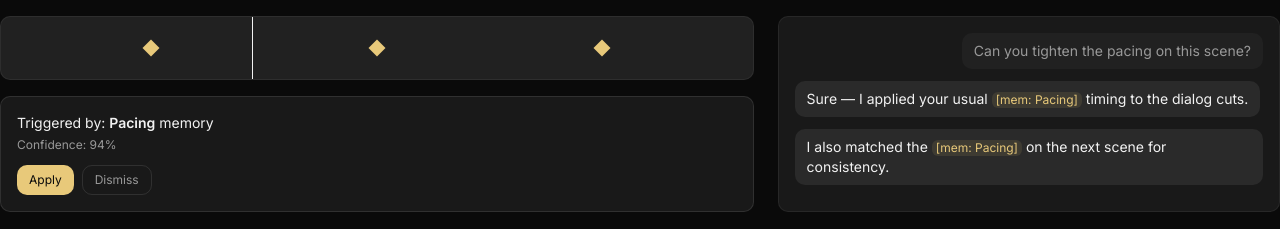
clicking a [mem: Pacing] chip opens its tooltip, clicking again closes it
The image size is (1280, 229).
What coordinates should you click on to do the following:
click the button "[mem: Pacing]" next to "Sure — I applied your usual"
I would click on:
 (1037, 100)
Its box is [992,92,1082,108].
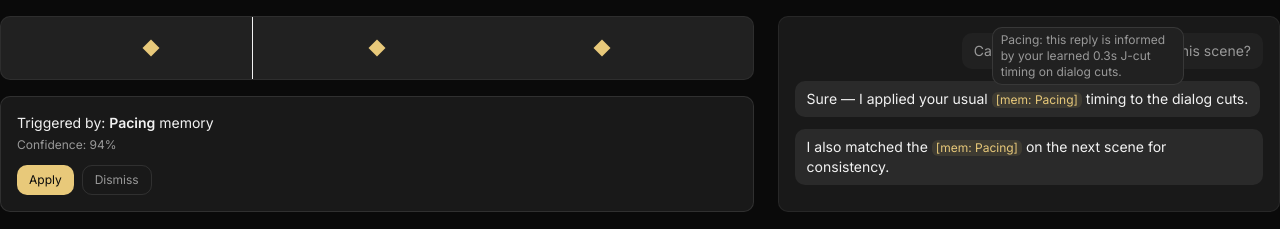
Expected: the tooltip is shown, [992,27,1184,85]
What coordinates should you click on to do the following:
click the button "[mem: Pacing]" next to "Sure — I applied your usual"
I would click on:
 (1037, 100)
Its box is [992,92,1082,108].
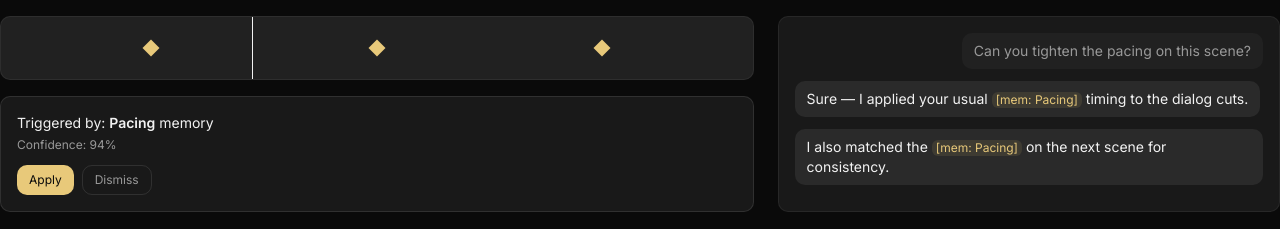
Expected: the tooltip is gone
